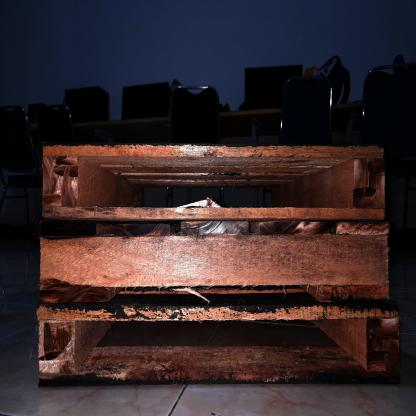Wooden-Pallet: (33, 299, 402, 388), (38, 216, 392, 303), (39, 139, 387, 216)
